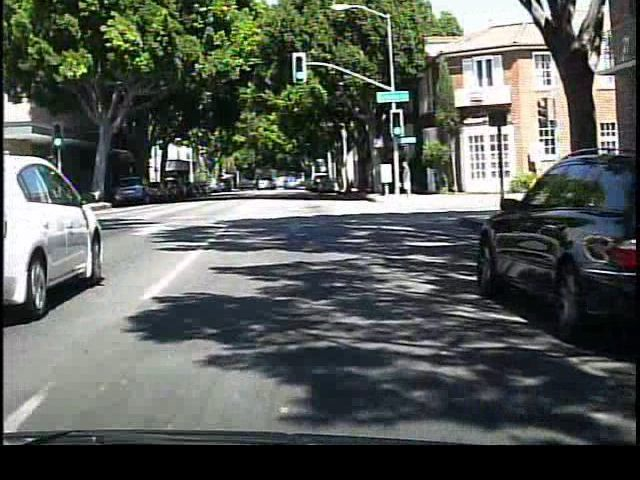person: (398, 157, 418, 203)
